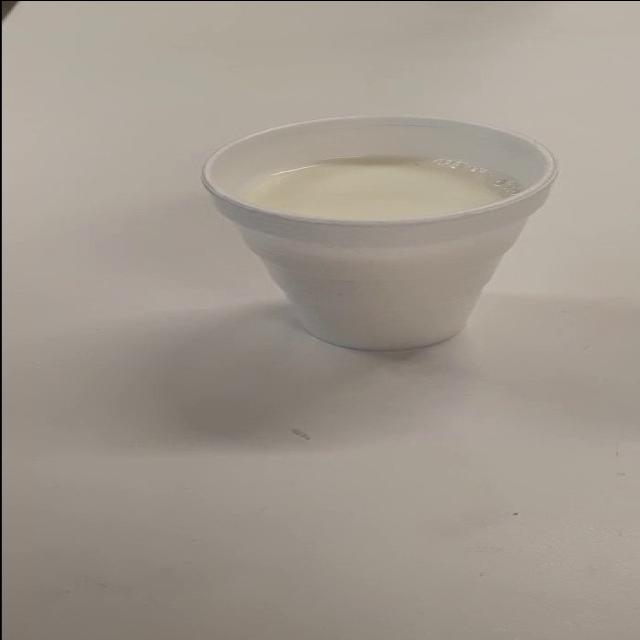Milk: (193, 106, 604, 375)
